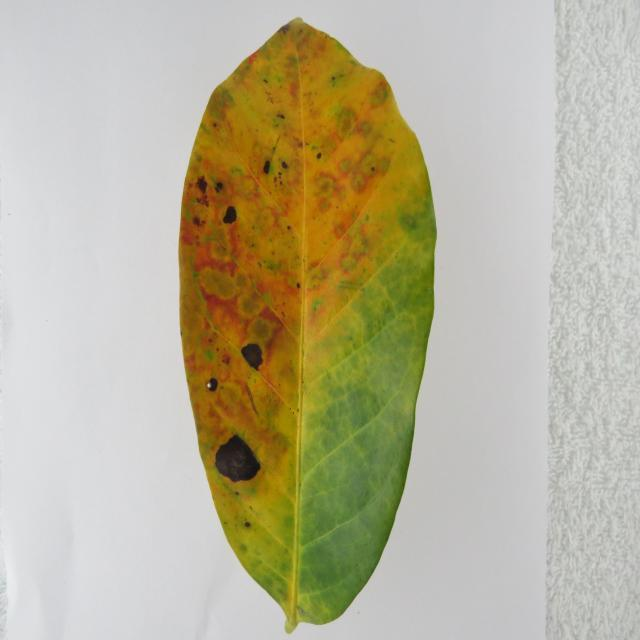DeficienciaNutricional-Fosforo: (179, 18, 436, 633)
